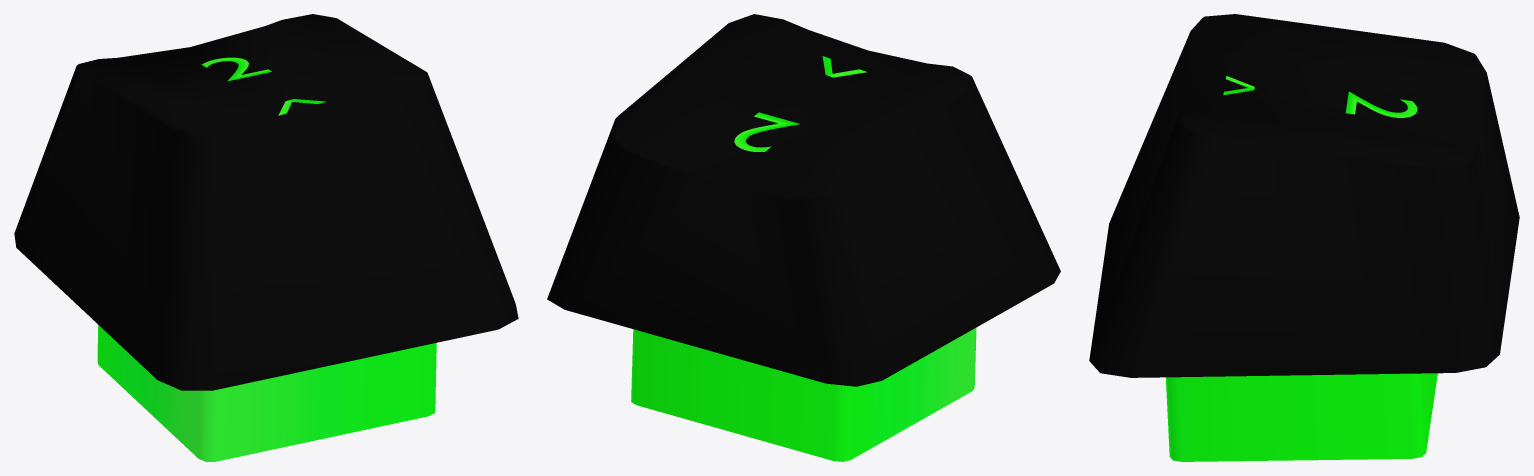
Rendered from key_2-BRJ8PC0Y.glb.
3 views of the same model, side by side, from view 1: azimuth 30°, elevation 25°; view 2: azimuth 150°, elevation 25°; view 3: azimuth 270°, elevation 25° (orthographic). The views are drawn at different scales.
Visible parts, largest first — view 1: StudyShelf_333; view 2: StudyShelf_333; view 3: StudyShelf_333.
Part boxes in pixels (<box>): StudyShelf_333: <box>14,14,518,461</box>; StudyShelf_333: <box>547,14,1060,461</box>; StudyShelf_333: <box>1089,14,1519,461</box>.
Size of the model in its own units: 4.35 by 3.71 by 4.35.
2 materials, 1 textured.
